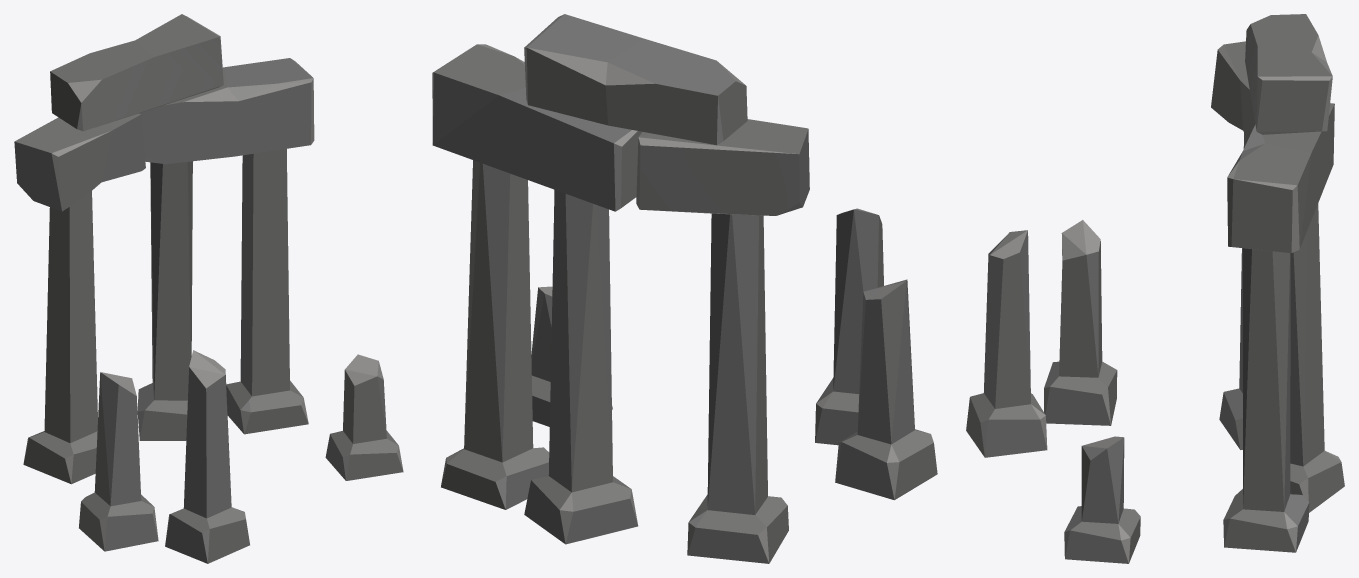
File: RW_HG_Environment_Temple.002.fbx
3 views of the same model, side by side, from view 1: azimuth 30°, elevation 25°; view 2: azimuth 150°, elevation 25°; view 3: azimuth 270°, elevation 25° (orthographic). The views are drawn at different scales.
Visible parts, largest first — view 1: WW_HG_Environment_Temple.002; view 2: WW_HG_Environment_Temple.002; view 3: WW_HG_Environment_Temple.002.
Part boxes in pixels (x1,y1,x2,y2): WW_HG_Environment_Temple.002: (14,14,403,563); WW_HG_Environment_Temple.002: (432,14,937,563); WW_HG_Environment_Temple.002: (966,14,1344,563).
Bounding box in the file's own units: 1.17 × 1.4 × 1.12.
